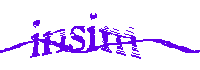i: (30, 19, 42, 59), (86, 12, 97, 55)
m: (99, 24, 143, 59)
n: (43, 30, 66, 56)
s: (71, 21, 86, 54)
